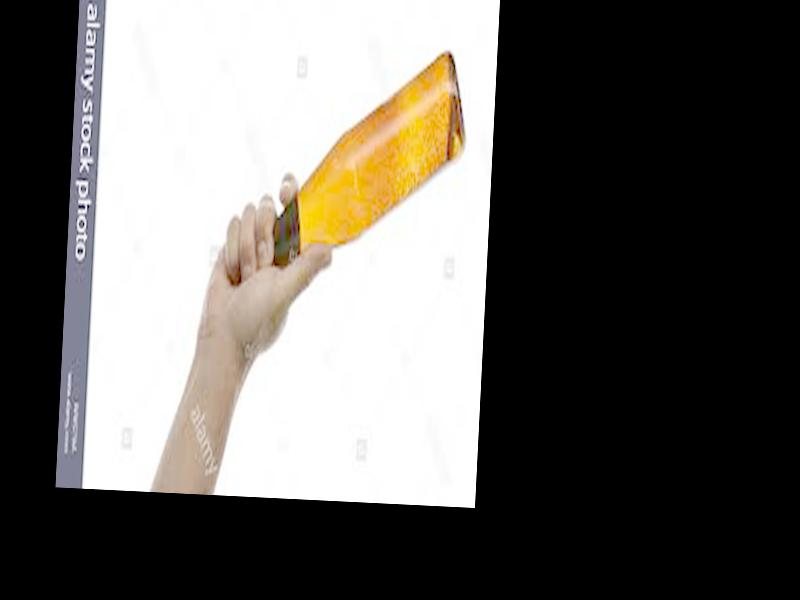Beer: (230, 40, 472, 292)
